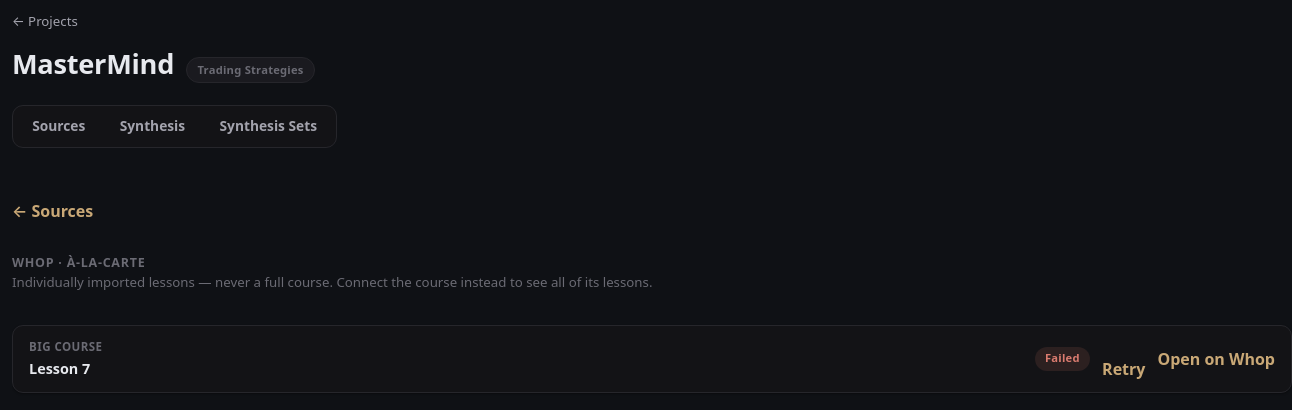
Test case: WhopAlaCarteDetailPage — WHOP · À-LA-CARTE group detail (Phase 4L taxonomy correction) › a FAILED lesson shows Retry, and a successful Retry refreshes the list
Expected: the text "Failed" is shown, [1034,347,1090,371]
Click the button "Retry" at (1124, 369), box [1102,358,1145,380]
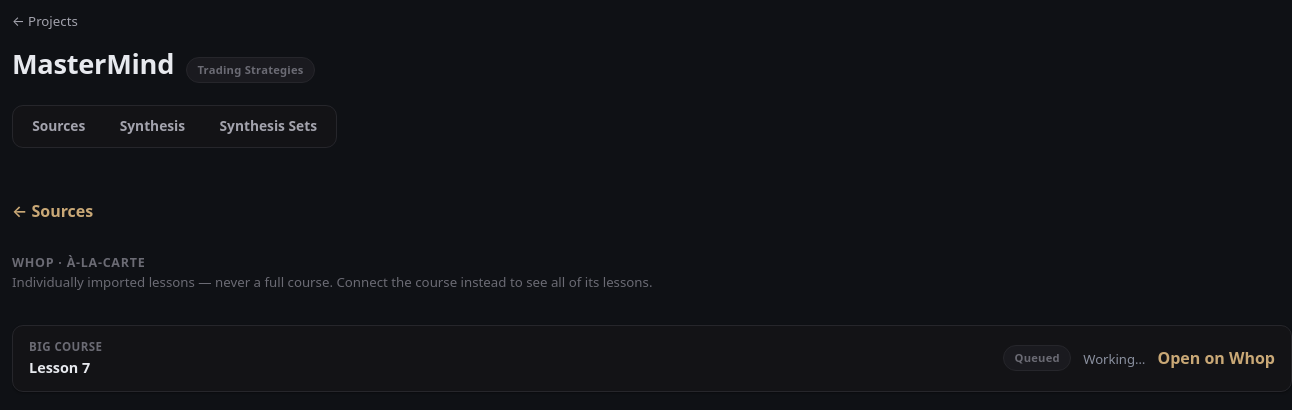
Expected: the text "Queued" is shown, [1003,346,1071,371]
